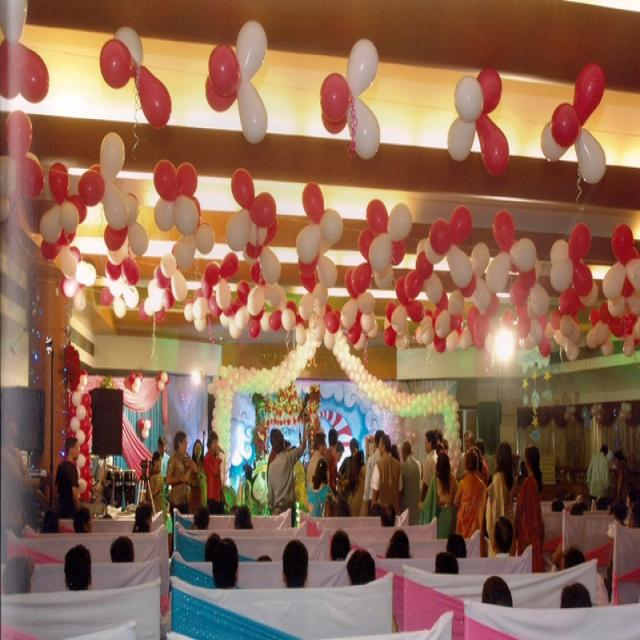body: (185, 498, 638, 619), (0, 501, 160, 592), (0, 411, 56, 566), (266, 409, 310, 528), (166, 429, 198, 562), (514, 444, 546, 575), (485, 439, 519, 559), (418, 449, 459, 540), (452, 449, 488, 540), (369, 432, 405, 518), (52, 435, 82, 521), (202, 430, 230, 515), (362, 428, 386, 518), (305, 457, 338, 517), (400, 438, 422, 526), (418, 429, 439, 513), (586, 442, 610, 512), (190, 438, 208, 531), (346, 449, 370, 518), (612, 448, 632, 527), (146, 449, 168, 515), (306, 431, 328, 488), (323, 428, 340, 499), (456, 428, 476, 482), (338, 437, 360, 482), (266, 427, 280, 489), (476, 434, 497, 475), (287, 441, 303, 492), (92, 447, 109, 489), (157, 434, 171, 482), (437, 432, 458, 456), (334, 441, 345, 464)
